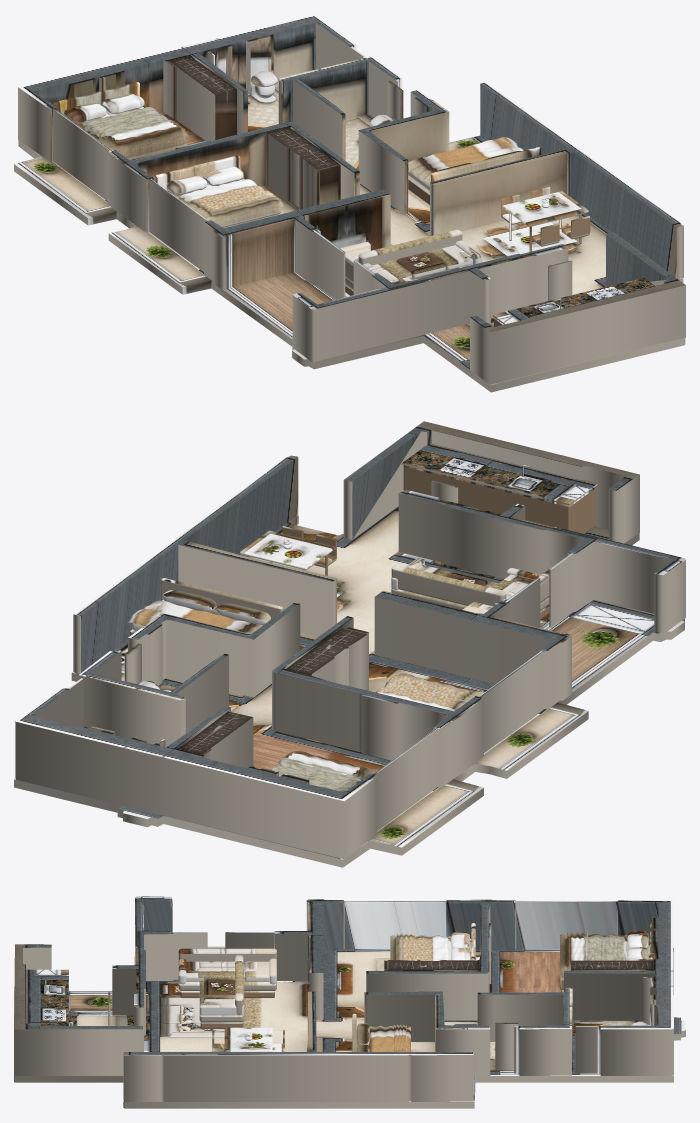
The model's file is p4-04-u03-0112-image-model.glb.
3 renders of one model, top to bottom at view 1: azimuth 30°, elevation 25°; view 2: azimuth 150°, elevation 25°; view 3: azimuth 270°, elevation 25°, orthographic. The views are drawn at different scales.
Visible parts, largest first — view 1: Partition walls, Apartment floor, Draped bed linen, Draped bed linen.002, Marble dining top, Sofa back, Stone worktop, Draped bed linen.004, Upholstered headboard.002, Upholstered headboard.001, Draped bed linen.001, Upholstered headboard (+10 smaller); view 2: Partition walls, Apartment floor, Kitchen cabinets, Stone worktop, Sofa back, Marble dining top, Draped bed linen.004, Upholstered headboard.002, Draped bed linen, Draped bed linen.002, Draped bed linen.001, Draped bed linen.003 (+2 smaller); view 3: Partition walls, Apartment floor, Stone worktop, Draped bed linen, Sofa back.001, Marble dining top, Draped bed linen.002, Draped bed linen.004, Draped bed linen.001, Upholstered sofa frame.001, Seat cushion.005, Padded armrest.001 (+10 smaller).
Boxes of the visible parts, x1,y1,x2,y2 form: Partition walls: [18, 14, 685, 384]; Apartment floor: [14, 84, 685, 392]; Draped bed linen: [77, 107, 188, 152]; Draped bed linen.002: [176, 179, 284, 221]; Marble dining top: [502, 191, 588, 226]; Sofa back: [358, 229, 462, 265]; Stone worktop: [492, 277, 654, 324]; Draped bed linen.004: [408, 143, 523, 181]; Upholstered headboard.002: [431, 147, 541, 181]; Upholstered headboard.001: [155, 155, 240, 189]; Draped bed linen.001: [97, 120, 185, 147]; Upholstered headboard: [52, 82, 139, 114]; Partition walls: [15, 421, 685, 859]; Apartment floor: [14, 506, 684, 867]; Kitchen cabinets: [403, 465, 596, 533]; Stone worktop: [402, 444, 597, 505]; Sofa back: [391, 564, 506, 606]; Marble dining top: [240, 530, 335, 570]; Draped bed linen.004: [128, 600, 262, 633]; Upholstered headboard.002: [161, 578, 283, 619]; Draped bed linen: [269, 751, 378, 792]; Draped bed linen.002: [376, 674, 483, 711]; Draped bed linen.001: [278, 751, 376, 780]; Draped bed linen.003: [385, 673, 481, 702]; Partition walls: [14, 896, 673, 1101]; Apartment floor: [14, 946, 685, 1108]; Stone worktop: [26, 969, 68, 1025]; Draped bed linen: [560, 934, 627, 972]; Sofa back.001: [178, 948, 276, 966]; Marble dining top: [224, 1027, 272, 1051]; Draped bed linen.002: [390, 935, 451, 960]; Draped bed linen.004: [369, 1026, 410, 1051]; Draped bed linen.001: [567, 932, 587, 970]; Upholstered sofa frame.001: [178, 967, 276, 990]; Seat cushion.005: [244, 961, 269, 981]; Padded armrest.001: [199, 1003, 244, 1015].
Bounding box in the file's own units: 8.77 × 1.3 × 14.85.
Materials: 13 (3 with a texture image).
